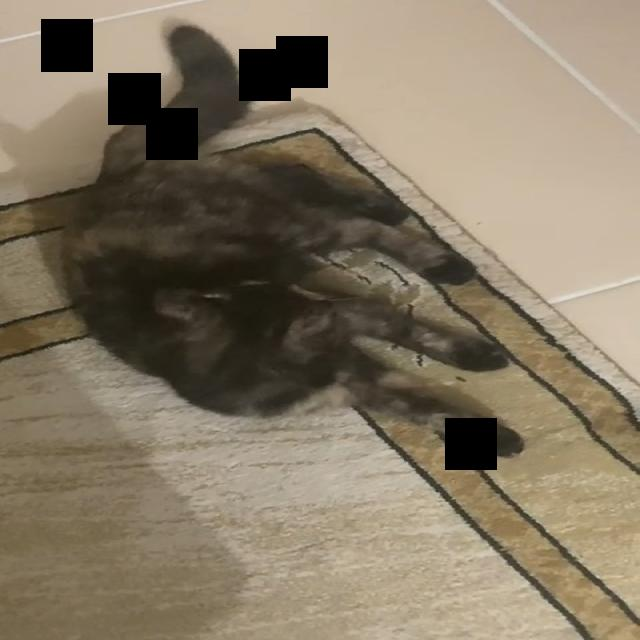authorized: (60, 16, 527, 459)
